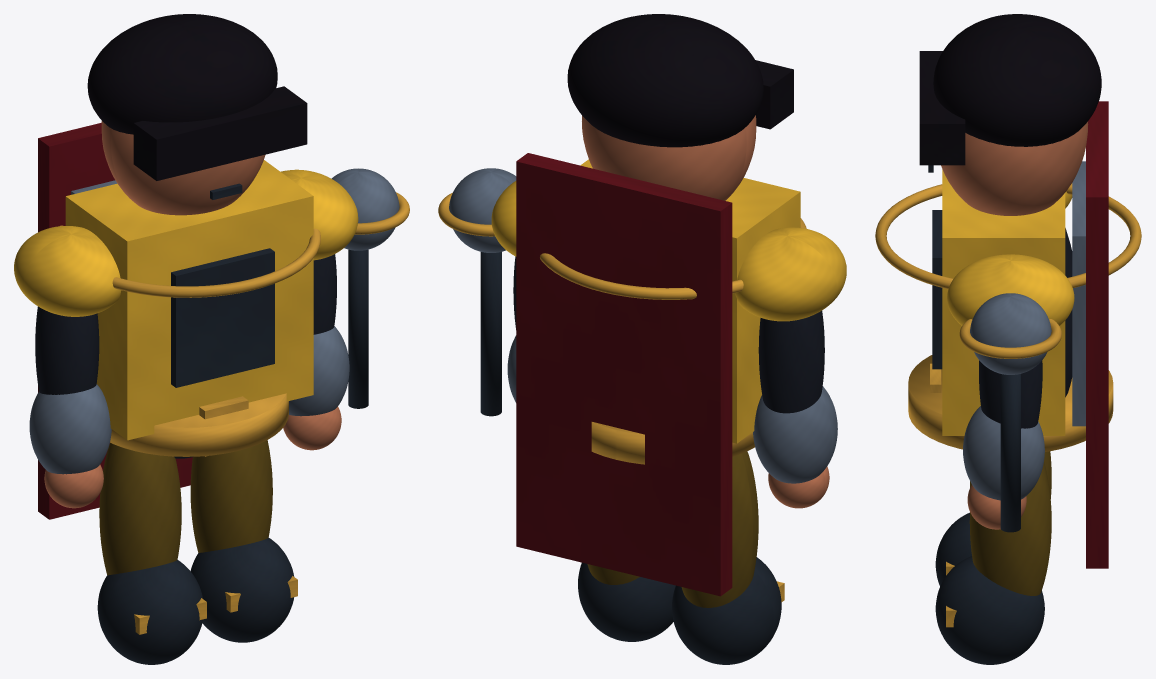
File: Advanced.glb
The picture shows the model from 3 angles, left to right: view 1: azimuth 30°, elevation 25°; view 2: azimuth 150°, elevation 25°; view 3: azimuth 270°, elevation 25°; orthographic projection. The views are drawn at different scales.
Parts seen in each view (by area): view 1: ChestPlate, Hair, ChestInset, HairFringe, Leg, Boot, Boot.001, Leg.001, Shoulder, Cape, Head, Gauntlet (+12 smaller); view 2: Cape, Hair, Shoulder, Head, ChestPlate, Boot, Arm, Gauntlet, Boot.001, Leg, MaceHandle, MaceHead (+7 smaller); view 3: Hair, ChestPlate, Cape, Head, Boot.001, Leg.001, Shoulder.001, MaceHead, Gauntlet.001, WaistGuard, HairFringe, BackArmor (+8 smaller).
Boxes of the visible parts, left/top/right/bottom form: ChestPlate: left=65, top=160, right=313, bottom=440; Hair: left=87, top=14, right=277, bottom=134; ChestInset: left=171, top=248, right=274, bottom=387; HairFringe: left=133, top=86, right=307, bottom=180; Leg: left=99, top=443, right=181, bottom=575; Boot: left=97, top=560, right=202, bottom=664; Boot.001: left=190, top=537, right=294, bottom=642; Leg.001: left=190, top=440, right=272, bottom=552; Shoulder: left=14, top=226, right=121, bottom=316; Cape: left=38, top=122, right=192, bottom=519; Head: left=101, top=121, right=265, bottom=215; Gauntlet: left=29, top=384, right=111, bottom=474; Cape: left=516, top=153, right=732, bottom=596; Hair: left=567, top=14, right=763, bottom=147; Shoulder: left=734, top=227, right=846, bottom=321; Head: left=582, top=115, right=756, bottom=200; ChestPlate: left=580, top=159, right=800, bottom=443; Boot: left=672, top=557, right=781, bottom=664; Arm: left=758, top=310, right=824, bottom=413; Gauntlet: left=753, top=386, right=837, bottom=483; Boot.001: left=578, top=562, right=675, bottom=641; Leg: left=681, top=451, right=758, bottom=607; MaceHandle: left=480, top=252, right=501, bottom=416; MaceHead: left=449, top=168, right=516, bottom=252; Hair: left=933, top=14, right=1101, bottom=146; ChestPlate: left=942, top=169, right=1065, bottom=435; Cape: left=1086, top=101, right=1108, bottom=568; Head: left=941, top=121, right=1088, bottom=215; Boot.001: left=935, top=556, right=1044, bottom=664; Leg.001: left=969, top=462, right=1051, bottom=595; Shoulder.001: left=947, top=254, right=1074, bottom=325; MaceHead: left=970, top=293, right=1051, bottom=374; Gauntlet.001: left=963, top=406, right=1044, bottom=500; WaistGuard: left=908, top=355, right=1113, bottom=451; HairFringe: left=919, top=51, right=965, bottom=165; BackArmor: left=1072, top=161, right=1085, bottom=426.
Bounding box in the file's own units: 1.92 × 2.96 × 1.17.
Materials: 11 (9 with a texture image).
